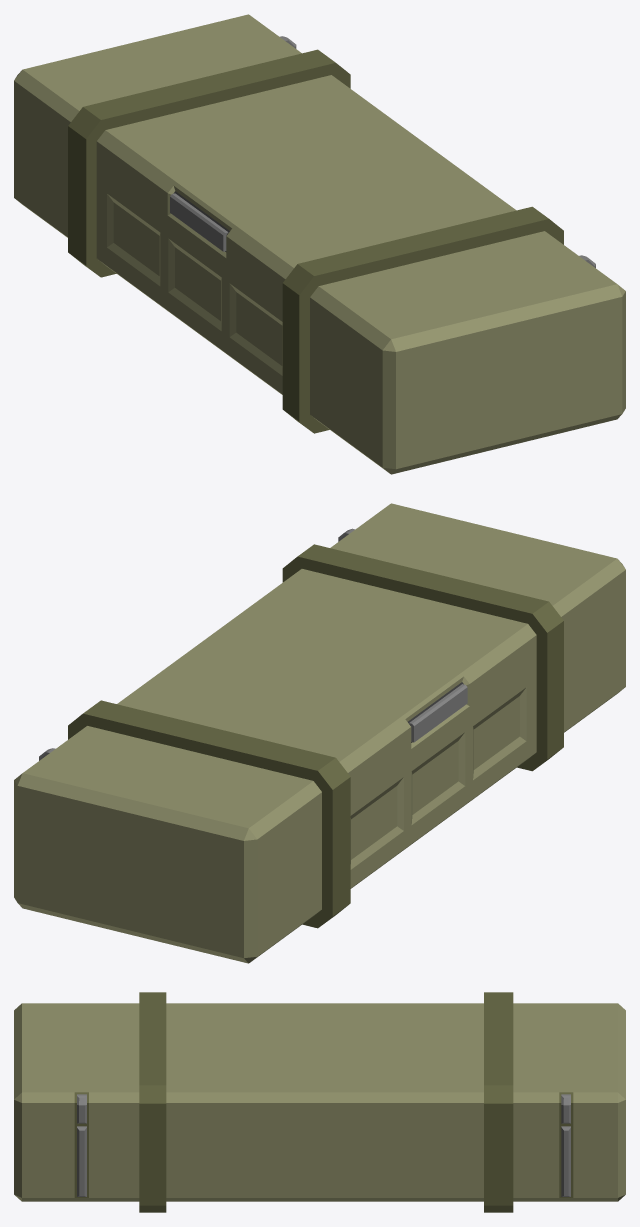
The model's file is model_box_ammo.fbx.
The picture shows the model from 3 angles, top to bottom: view 1: azimuth 30°, elevation 25°; view 2: azimuth 150°, elevation 25°; view 3: azimuth 270°, elevation 25°; orthographic projection. The views are drawn at different scales.
Visible parts, largest first — view 1: model_box_ammo_lid, model_box_ammo; view 2: model_box_ammo_lid, model_box_ammo; view 3: model_box_ammo_lid, model_box_ammo.
Boxes of the visible parts, x1,y1,x2,y2 form: model_box_ammo_lid: [14, 14, 625, 378]; model_box_ammo: [14, 107, 625, 474]; model_box_ammo_lid: [14, 503, 625, 867]; model_box_ammo: [14, 596, 625, 963]; model_box_ammo_lid: [14, 992, 625, 1128]; model_box_ammo: [14, 1121, 625, 1212].
Bounding box in the file's own units: 82.48 × 46.91 × 204.
1 material, 1 textured.
